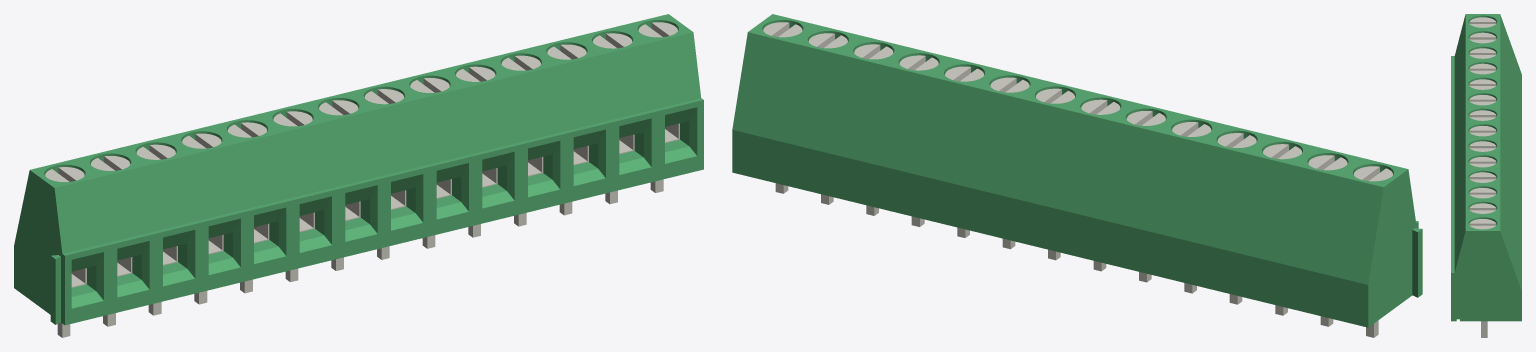
File: kc-terminalblock_phoenix_mkds-1_5-14-5.08_1x14_p5.08mm_horizontal.glb
3 views of the same model, side by side, from view 1: azimuth 30°, elevation 25°; view 2: azimuth 150°, elevation 25°; view 3: azimuth 270°, elevation 25° (orthographic). The views are drawn at different scales.
Parts seen in each view (by area): view 1: 0.08333333333333333_0.4166666666666667_0.16666666666666666_0, 0.6666666666666666_0.6666666666666666_0.5833333333333334_0.8; view 2: 0.08333333333333333_0.4166666666666667_0.16666666666666666_0, 0.6666666666666666_0.6666666666666666_0.5833333333333334_0.8; view 3: 0.08333333333333333_0.4166666666666667_0.16666666666666666_0, 0.6666666666666666_0.6666666666666666_0.5833333333333334_0.8.
Part boxes in pixels (left/top/right/bottom): 0.08333333333333333_0.4166666666666667_0.16666666666666666_0: left=14, top=14, right=703, bottom=325; 0.6666666666666666_0.6666666666666666_0.5833333333333334_0.8: left=45, top=22, right=679, bottom=337; 0.08333333333333333_0.4166666666666667_0.16666666666666666_0: left=732, top=14, right=1422, bottom=327; 0.6666666666666666_0.6666666666666666_0.5833333333333334_0.8: left=763, top=22, right=1392, bottom=337; 0.08333333333333333_0.4166666666666667_0.16666666666666666_0: left=1451, top=14, right=1521, bottom=321; 0.6666666666666666_0.6666666666666666_0.5833333333333334_0.8: left=1469, top=17, right=1496, bottom=337.
Size of the model in its own units: 7.19 by 1.73 by 0.9799.
